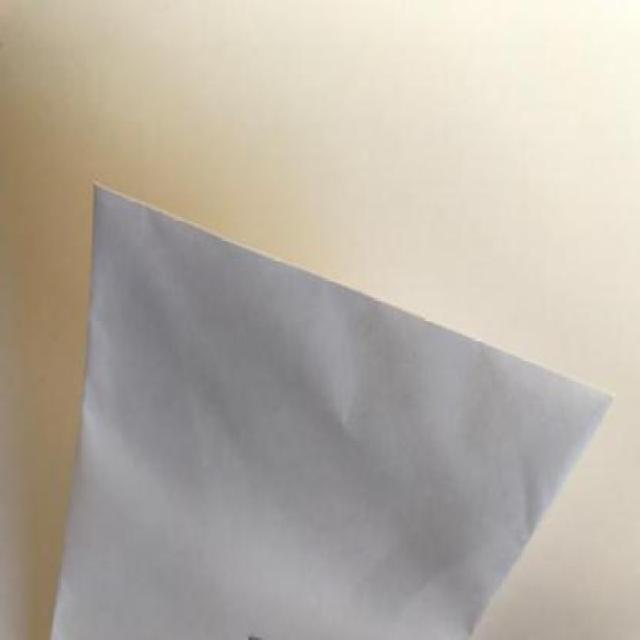PAPER: (52, 183, 616, 639)
